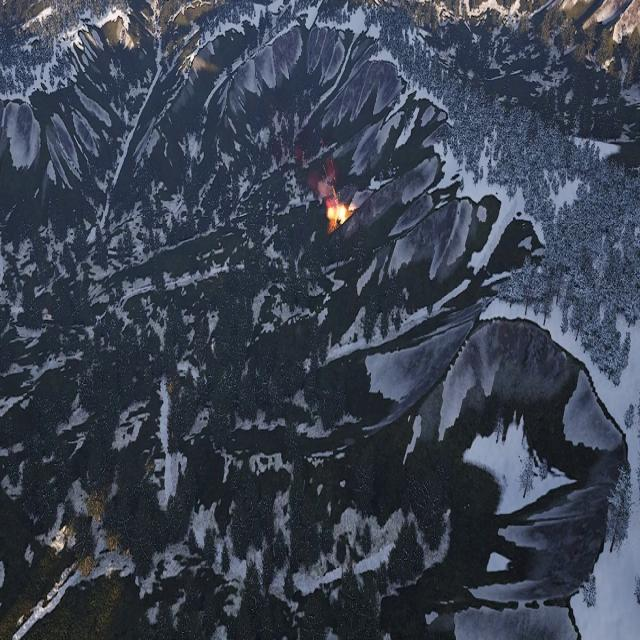fire: (326, 201, 350, 228)
smoke: (296, 146, 342, 207)
